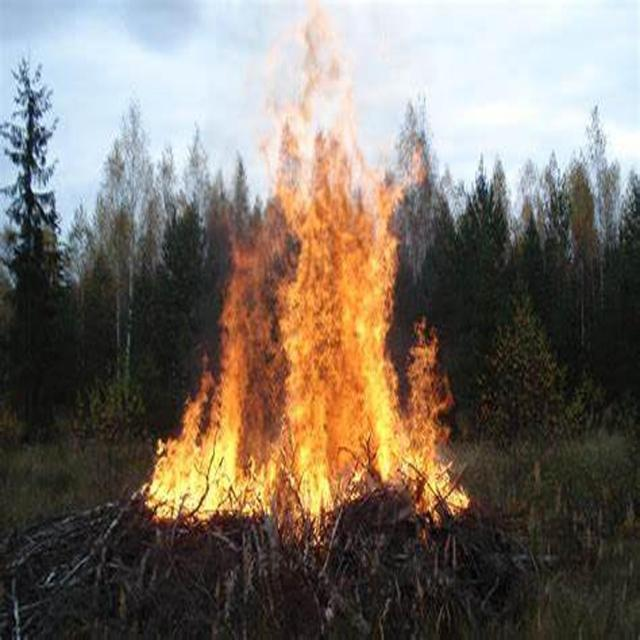Fire: (296, 48, 398, 496), (218, 277, 270, 508), (402, 322, 454, 479), (159, 408, 222, 526)
